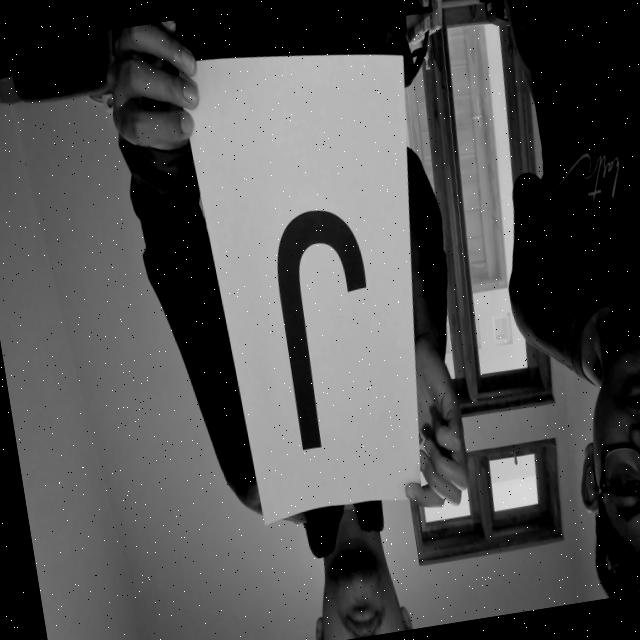j: (240, 173, 410, 474)
